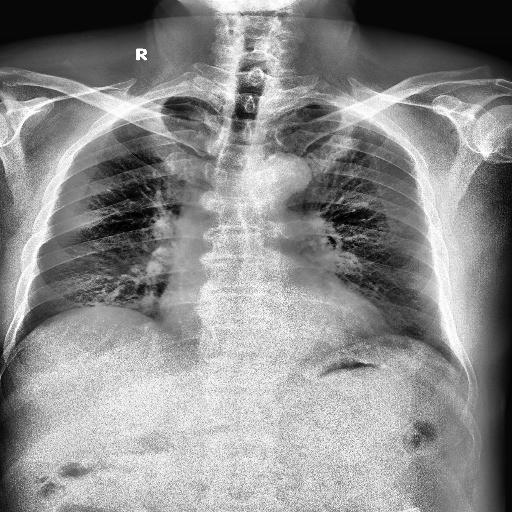0- Aortic enlargement: (244, 154, 312, 208), (264, 156, 312, 198), (264, 155, 312, 192)
3- Cardiomegaly: (158, 262, 384, 339), (160, 285, 389, 344)
